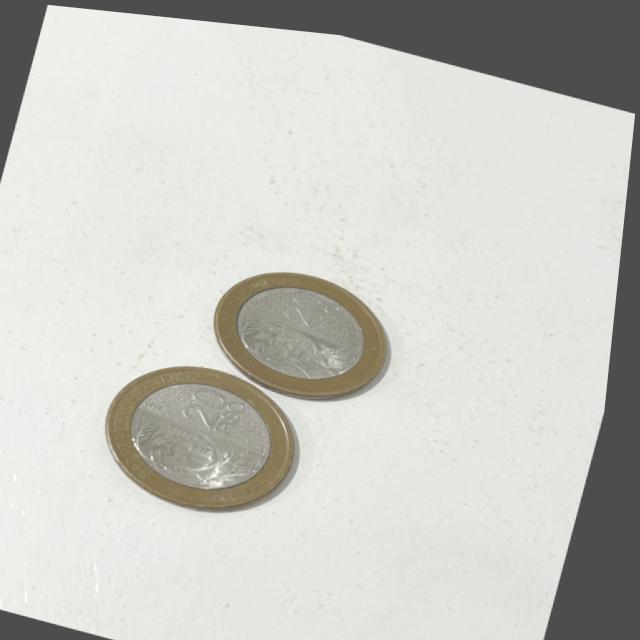20_New_Front: (178, 366, 266, 442), (280, 273, 364, 336)
